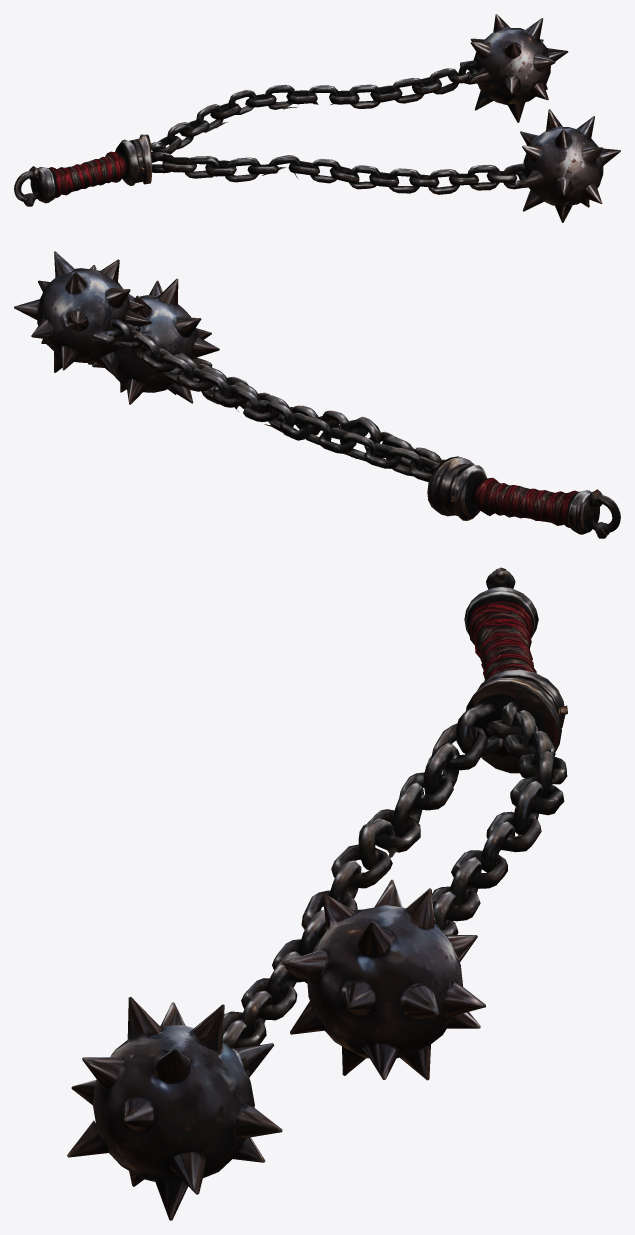
File: FL_chain_flail_vA.glb
3 renders of one model, top to bottom at view 1: azimuth 30°, elevation 25°; view 2: azimuth 150°, elevation 25°; view 3: azimuth 270°, elevation 25°, orthographic. The views are drawn at different scales.
Visible parts, largest first — view 1: tripo_668cd5a2_c0a9_4e6a_83db_f58f8e73f04b; view 2: tripo_668cd5a2_c0a9_4e6a_83db_f58f8e73f04b; view 3: tripo_668cd5a2_c0a9_4e6a_83db_f58f8e73f04b.
Part boxes in pixels (box(x1,y1,x2,y2)): tripo_668cd5a2_c0a9_4e6a_83db_f58f8e73f04b: box(14, 14, 620, 222); tripo_668cd5a2_c0a9_4e6a_83db_f58f8e73f04b: box(14, 251, 620, 538); tripo_668cd5a2_c0a9_4e6a_83db_f58f8e73f04b: box(67, 567, 567, 1220).
Bounding box in the file's own units: 0.9995 × 0.2827 × 0.4204.
1 material, 1 textured.
